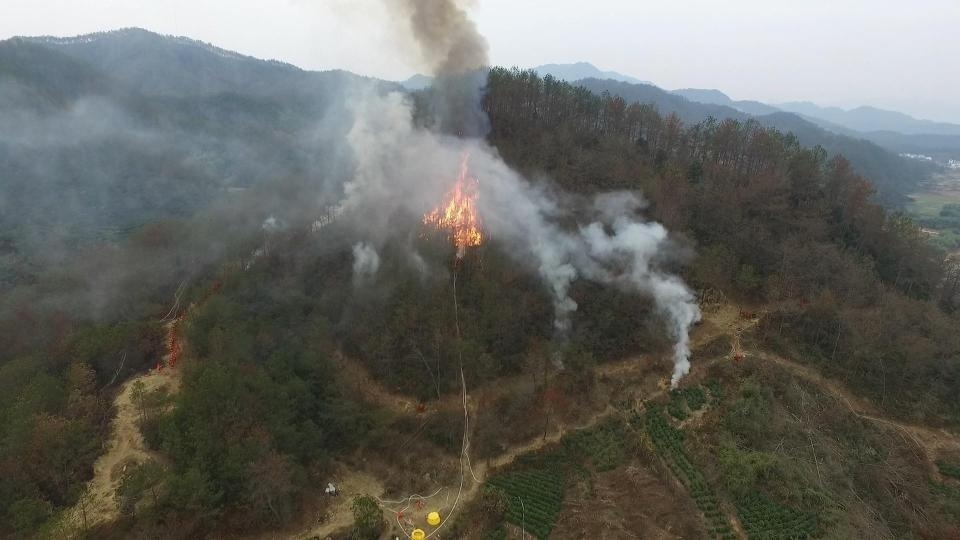fire: (415, 154, 492, 256)
